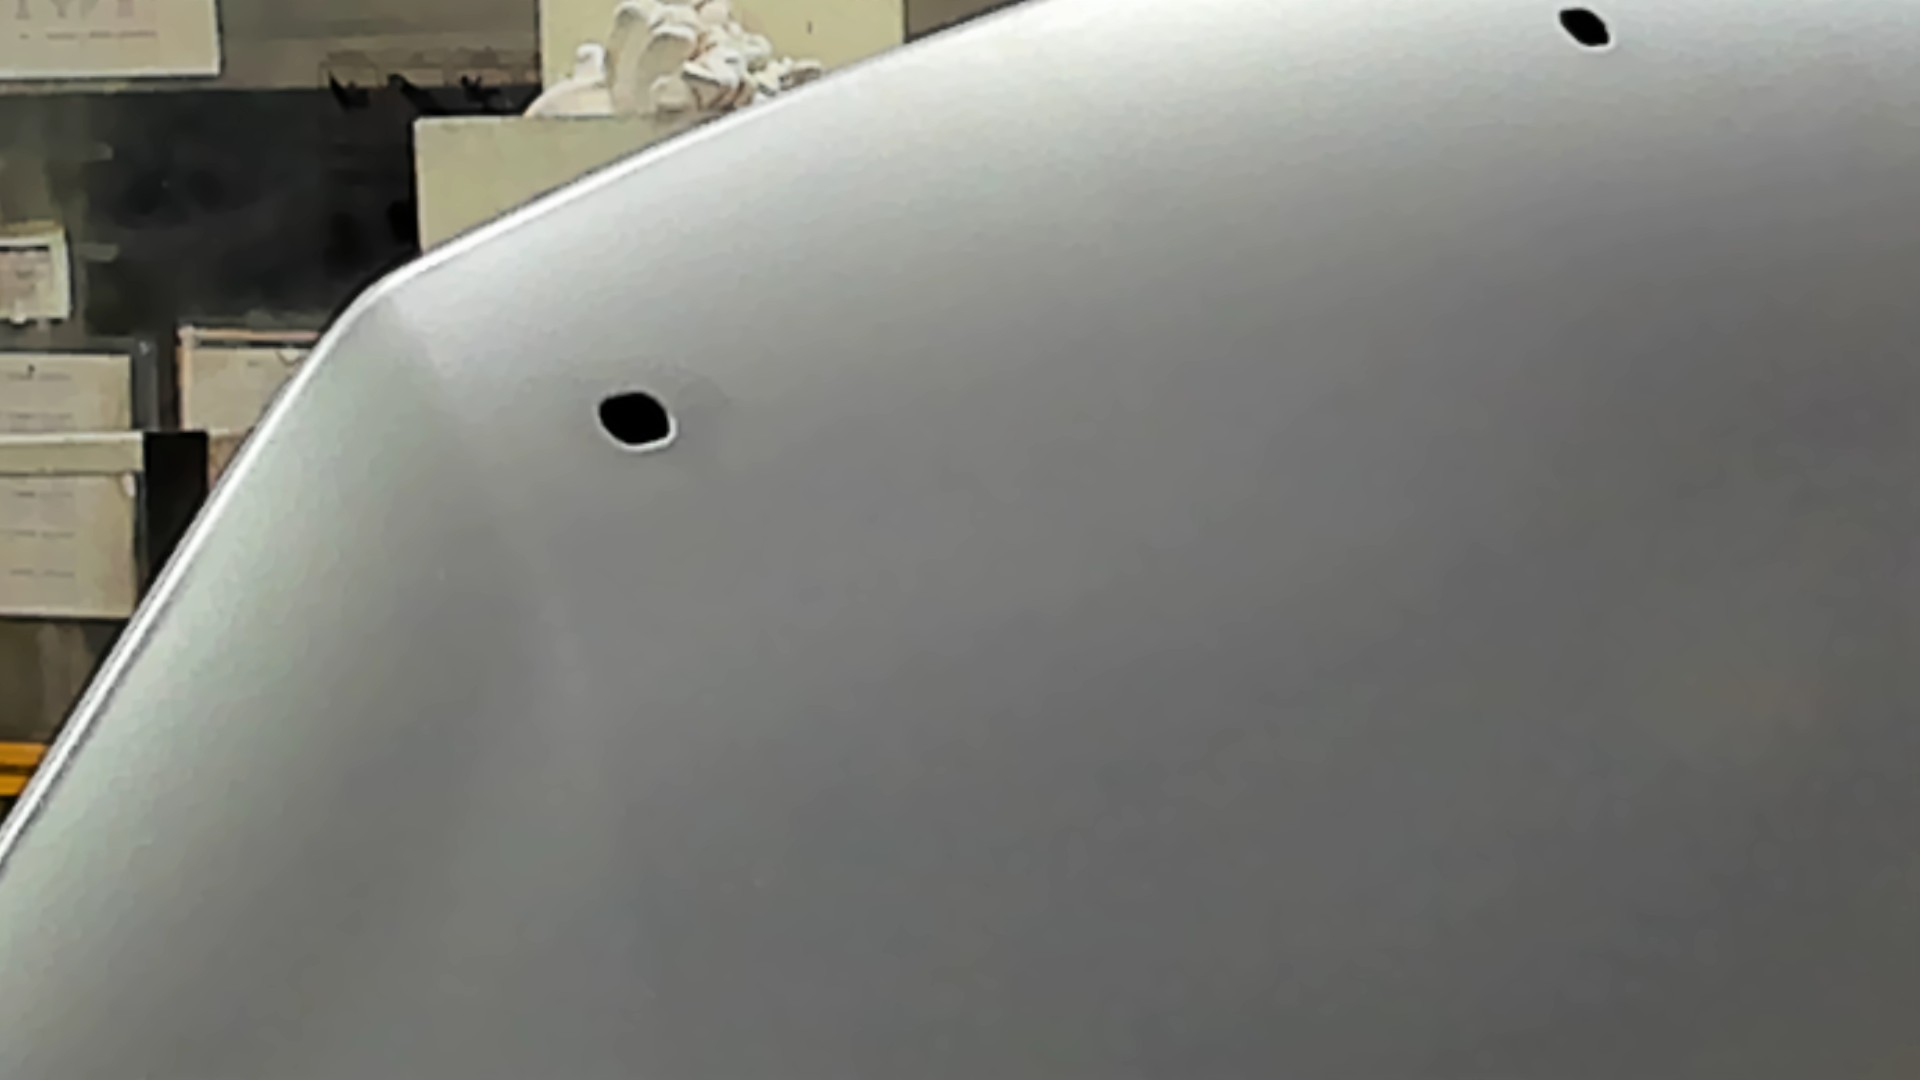amorfo: (588, 378, 684, 459), (1551, 5, 1621, 53)
capo: (808, 113, 1920, 1080)
